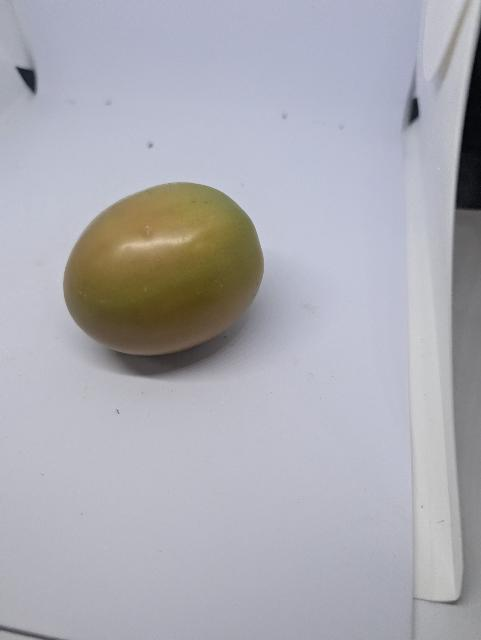breaker: (59, 180, 269, 360)
